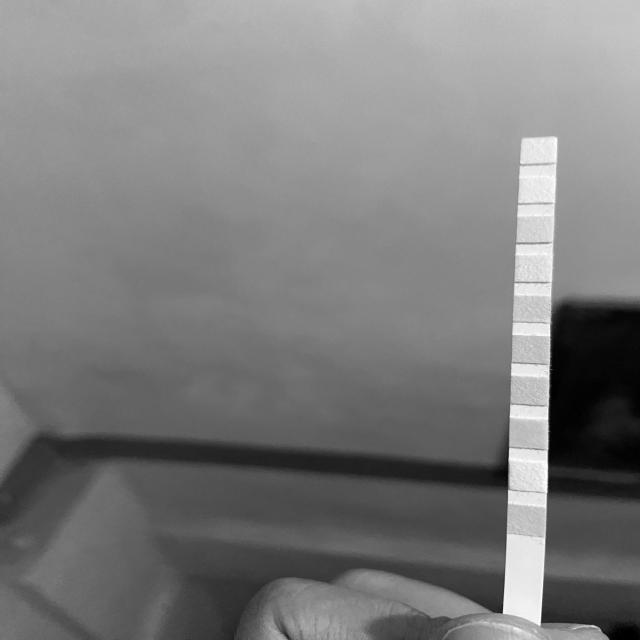Bilirubin: (509, 462, 547, 489)
Blood: (512, 336, 550, 362)
Glucose: (508, 507, 545, 534)
Ketone: (510, 420, 549, 447)
Leukocytes: (522, 139, 556, 163)
Nitrite: (520, 176, 554, 202)
Protein: (516, 257, 551, 280)
SpGravity: (511, 378, 549, 403)
Urobilinogen: (518, 217, 552, 243)
background: (0, 0, 640, 640)
pH: (514, 297, 550, 322)
strip: (503, 135, 557, 616)
